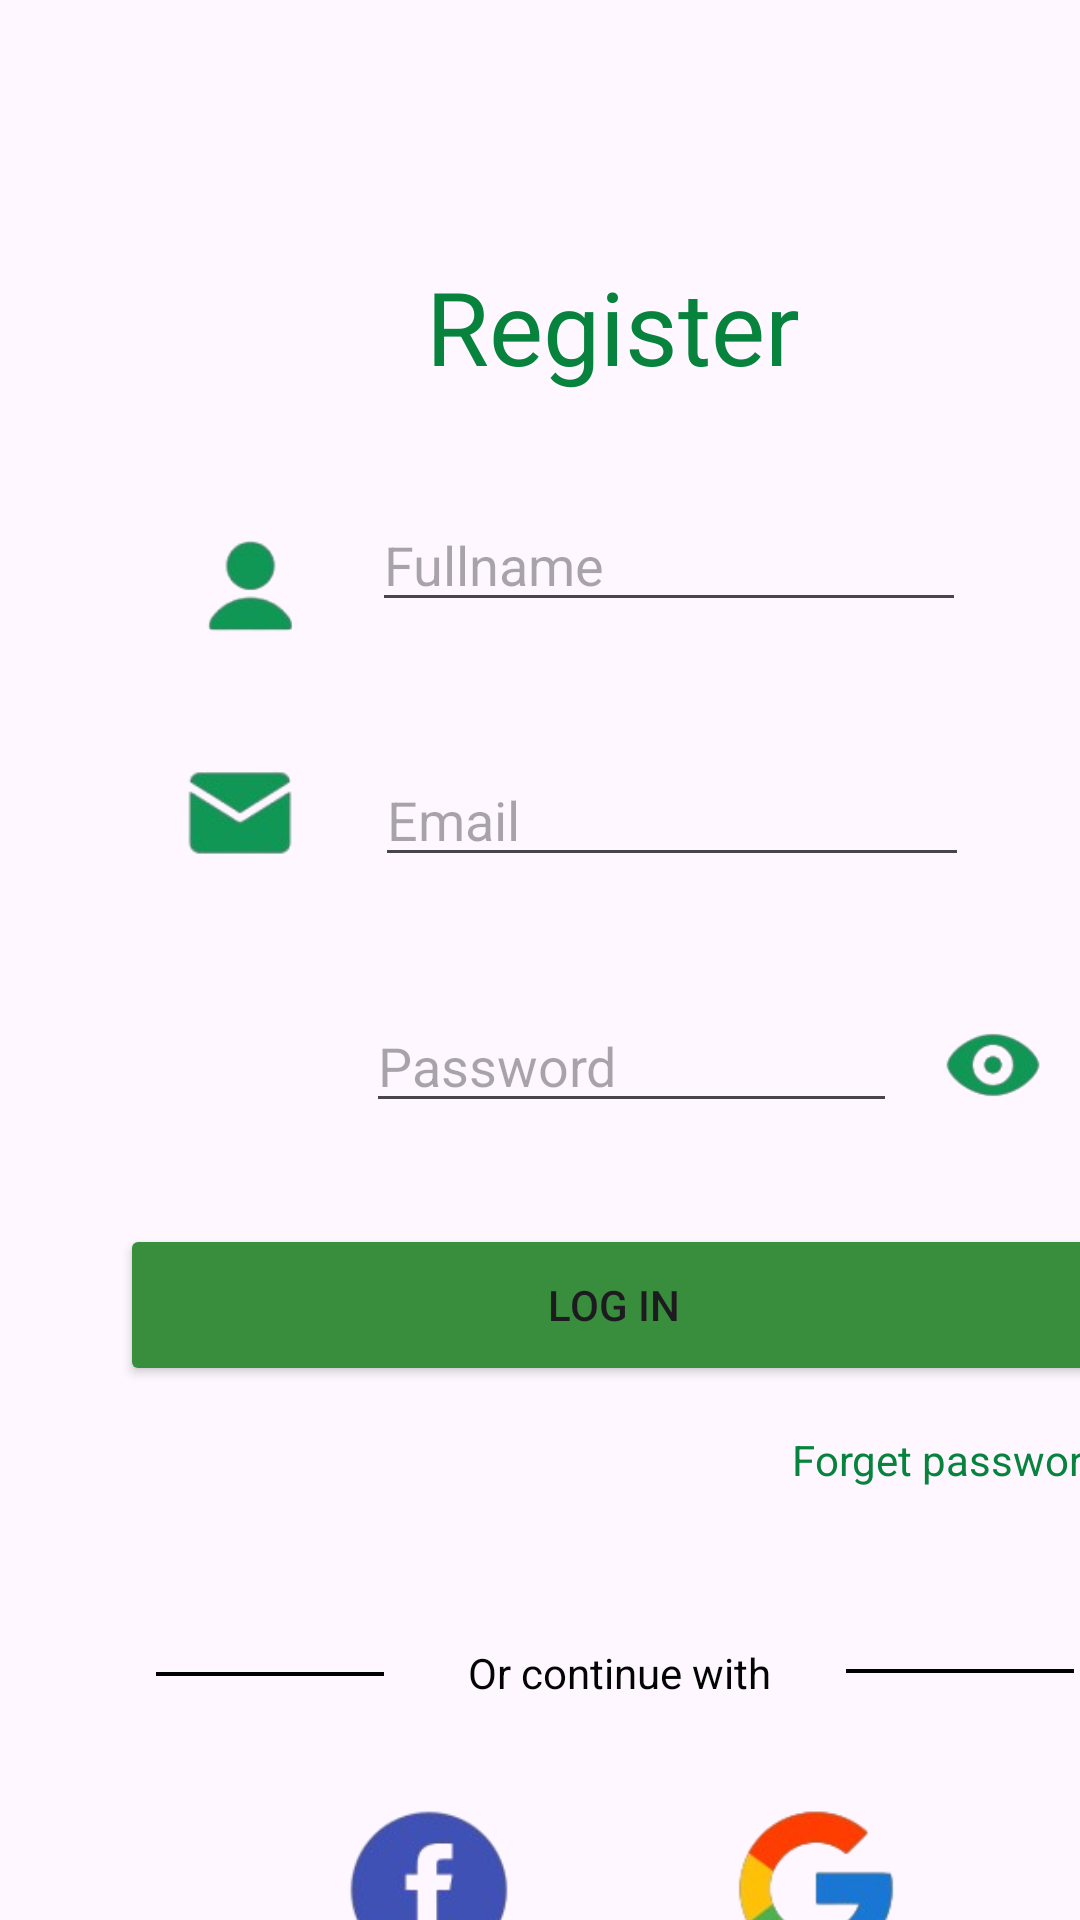

Locate icon controls on the screen. Image size 1080w x 1920h, boxes as (x1, y1, x2, y2).
eye photoroom: (946, 1034, 1040, 1096)
profile photoroom: (208, 541, 292, 631)
